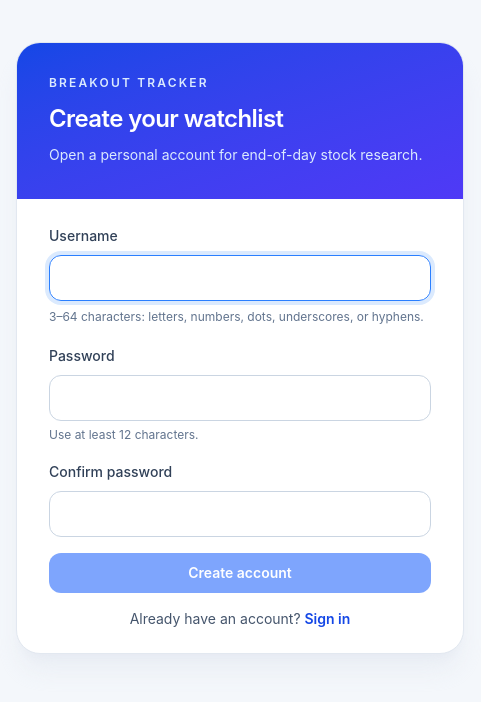
Test: authentication routing › stops signup locally when the passwords differ
The image size is (481, 702).
Type "new.investor" into the field labelled "Username" at (240, 278), box [49, 255, 431, 301]
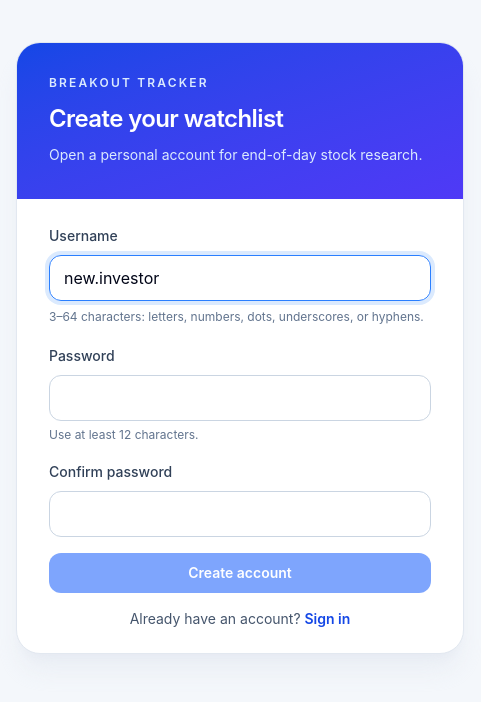
Type "a-secure-test-password" into the password field labelled "Password" at (240, 398), box [49, 375, 431, 421]
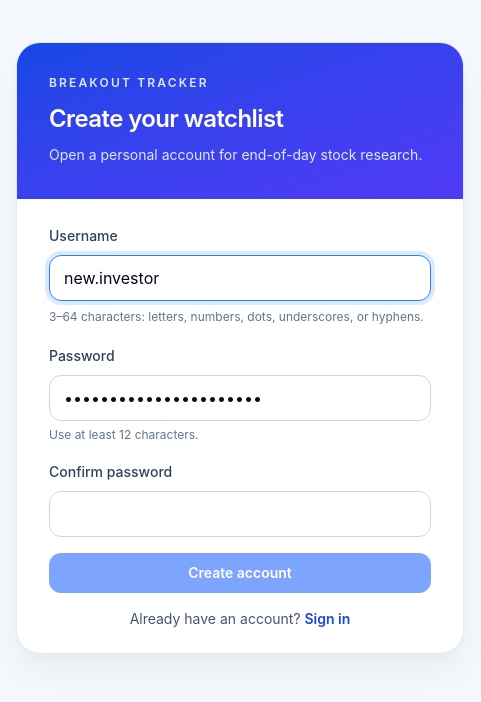
Type "a-different-password" into the password field labelled "Confirm password" at (240, 514), box [49, 491, 431, 537]
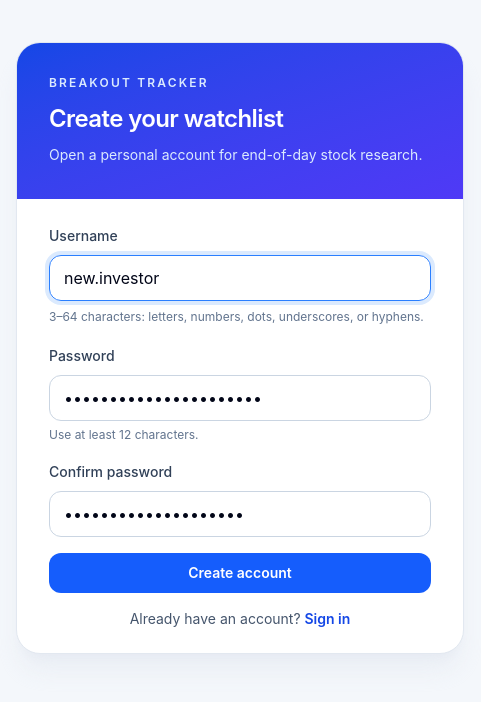
Click the button "Create account" at (240, 573), box [49, 553, 431, 593]
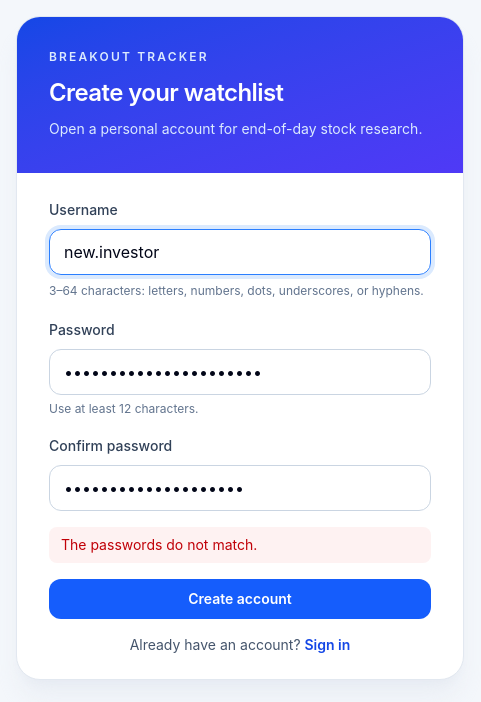
Expected: the message shows "passwords do not match", [61, 536, 257, 553]
